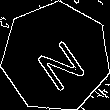N_NW: (25, 25, 87, 89)
